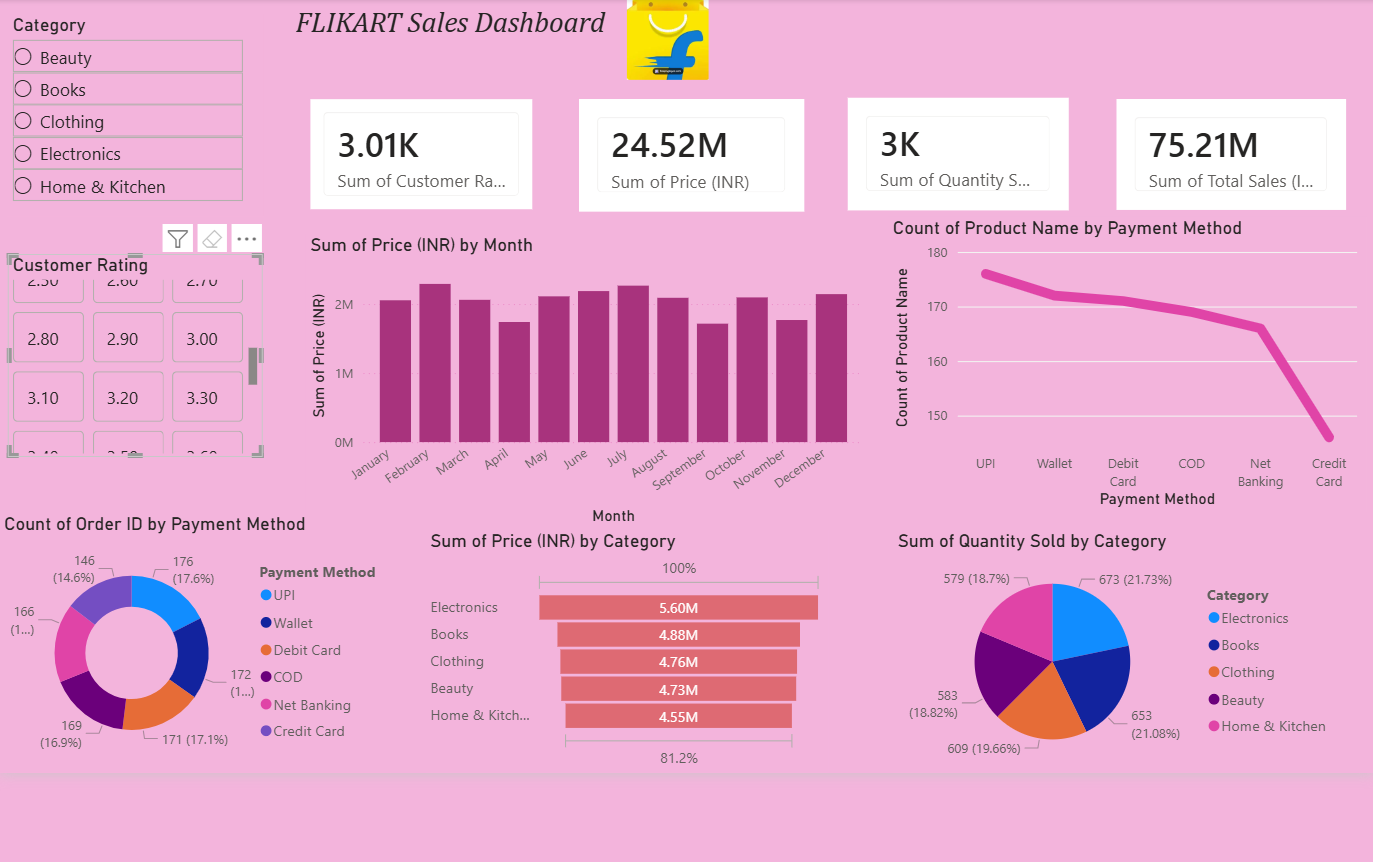

This screenshot's page, from the dashboard's own definition file:
{"tool":"powerbi","page":{"name":"Page 1","canvas":[1280,720],"ordinal":0},"visuals":[{"type":"listSlicer","fields":{"Values":["in.Category"]},"box":[8.1,14,237.2,188.4],"z":0},{"type":"advancedSlicerVisual","fields":{"Values":["in.Customer Rating"]},"box":[8.1,237.2,237.2,188.4],"z":1000},{"type":"columnChart","fields":{"Category":["in.Order Date.Variation.Date Hierarchy.Month","in.Order Date.Variation.Date Hierarchy.Day"],"Y":["Sum(in.Price (INR))"]},"box":[284.9,218.6,524.4,275.6],"z":2000},{"type":"lineChart","fields":{"Category":["in.Payment Method"],"Y":["CountNonNull(in.Product Name)"]},"box":[826.7,202.3,445.4,275.6],"z":3000},{"type":"donutChart","fields":{"Category":["in.Payment Method"],"Y":["CountNonNull(in.Order ID)"]},"box":[0,477.9,365.1,241.9],"z":4000},{"type":"funnel","fields":{"Category":["in.Category"],"Y":["Sum(in.Price (INR))"]},"box":[396.5,494.2,375.6,225.6],"z":5000},{"type":"pieChart","fields":{"Category":["in.Category"],"Y":["Sum(in.Quantity Sold)"]},"box":[831.4,494.2,417.4,225.6],"z":6000},{"type":"cardVisual","fields":{"Data":["Sum(in.Customer Rating)"]},"box":[284.9,88.4,216.3,112.8],"z":7000},{"type":"cardVisual","fields":{"Data":["Sum(in.Price (INR))"]},"box":[539.5,93,209.3,104.7],"z":8000},{"type":"cardVisual","fields":{"Data":["Sum(in.Quantity Sold)"]},"box":[789.5,91.9,205.8,104.7],"z":9000},{"type":"cardVisual","fields":{"Data":["Sum(in.Total Sales (INR))"]},"box":[1039.5,93,214,103.5],"z":10000},{"type":"textbox","box":[270.9,0,518.6,41.9],"z":11000},{"type":"image","box":[472.1,0,300,75.6],"z":12000}]}

Visuals, with their boxes on the page's 1280x720 design canvas (x1, y1, x2, y2). These are canvas units, not pixel positions in the 1373x862 screenshot, which may show the page scaled, cropped or inside an application window:
listSlicer - in.Category: pyautogui.locateOnScreen(8, 14, 245, 202)
advancedSlicerVisual - in.Customer Rating: pyautogui.locateOnScreen(8, 237, 245, 426)
columnChart - in.Order Date.Variation.Date Hierarchy.Month x in.Order Date.Variation.Date Hierarchy.Day: pyautogui.locateOnScreen(285, 219, 809, 494)
lineChart - in.Payment Method x CountNonNull(in.Product Name): pyautogui.locateOnScreen(827, 202, 1272, 478)
donutChart - in.Payment Method x CountNonNull(in.Order ID): pyautogui.locateOnScreen(0, 478, 365, 720)
funnel - in.Category x Sum(in.Price (INR)): pyautogui.locateOnScreen(396, 494, 772, 720)
pieChart - in.Category x Sum(in.Quantity Sold): pyautogui.locateOnScreen(831, 494, 1249, 720)
cardVisual - Sum(in.Customer Rating): pyautogui.locateOnScreen(285, 88, 501, 201)
cardVisual - Sum(in.Price (INR)): pyautogui.locateOnScreen(540, 93, 749, 198)
cardVisual - Sum(in.Quantity Sold): pyautogui.locateOnScreen(790, 92, 995, 197)
cardVisual - Sum(in.Total Sales (INR)): pyautogui.locateOnScreen(1040, 93, 1254, 196)
textbox: pyautogui.locateOnScreen(271, 0, 790, 42)
image: pyautogui.locateOnScreen(472, 0, 772, 76)
